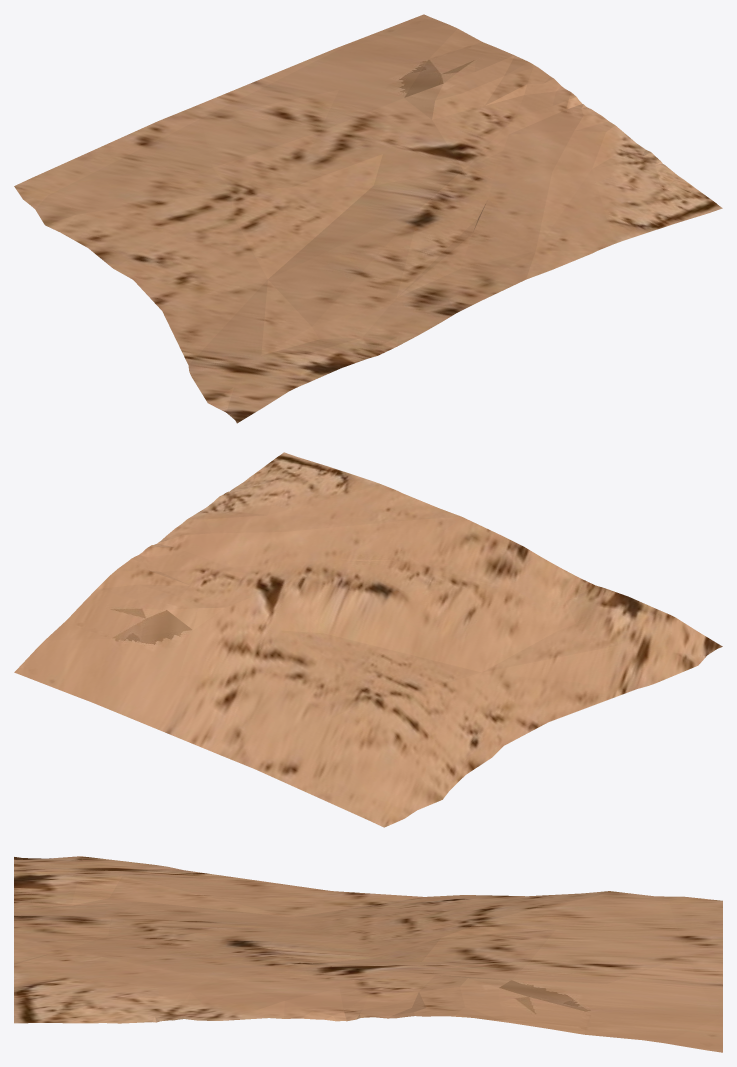
3 views of the same model, one above another, from view 1: azimuth 30°, elevation 25°; view 2: azimuth 150°, elevation 25°; view 3: azimuth 270°, elevation 25° (orthographic). The views are drawn at different scales.
Bounding box in the file's own units: 0.9821 × 0.1981 × 1.04.
Materials: 2 (2 with a texture image).
